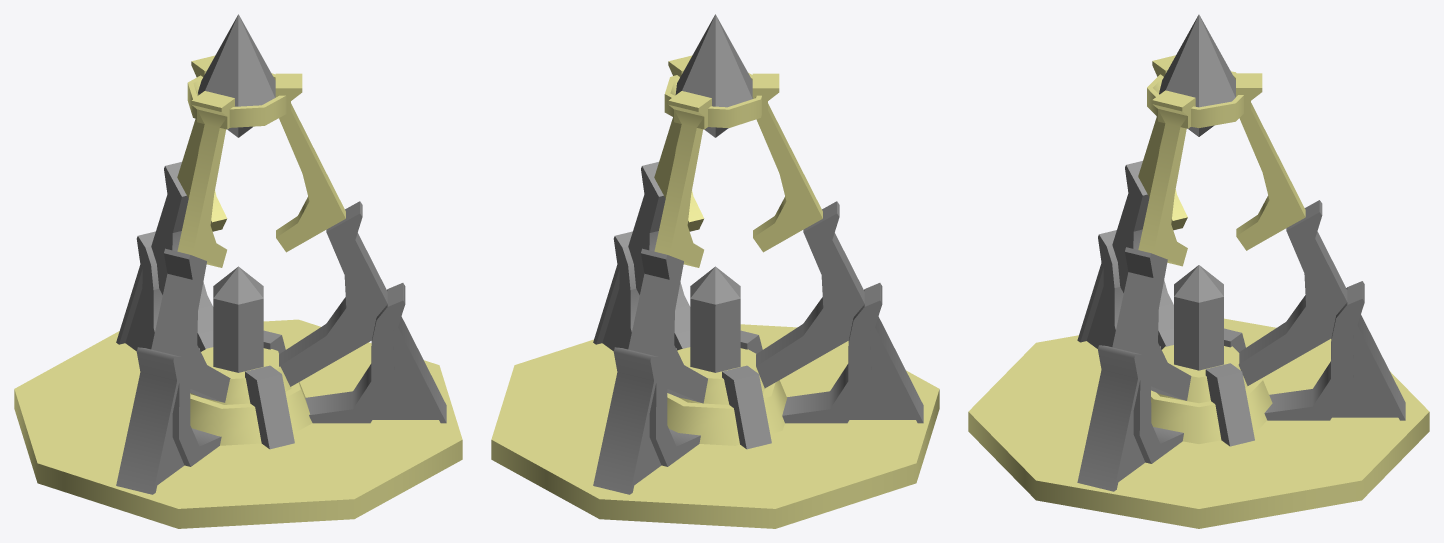
The model's file is tri_high.FBX.
The picture shows the model from 3 angles, left to right: view 1: azimuth 30°, elevation 25°; view 2: azimuth 150°, elevation 25°; view 3: azimuth 270°, elevation 25°; orthographic projection.
Visible parts, largest first — view 1: tripod_high; view 2: tripod_high; view 3: tripod_high.
Part boxes in pixels (x1,y1,x2,y2): tripod_high: (14,14,462,528); tripod_high: (491,14,939,528); tripod_high: (968,14,1429,528).
Size of the model in its own units: 10500 by 10490 by 10500.
